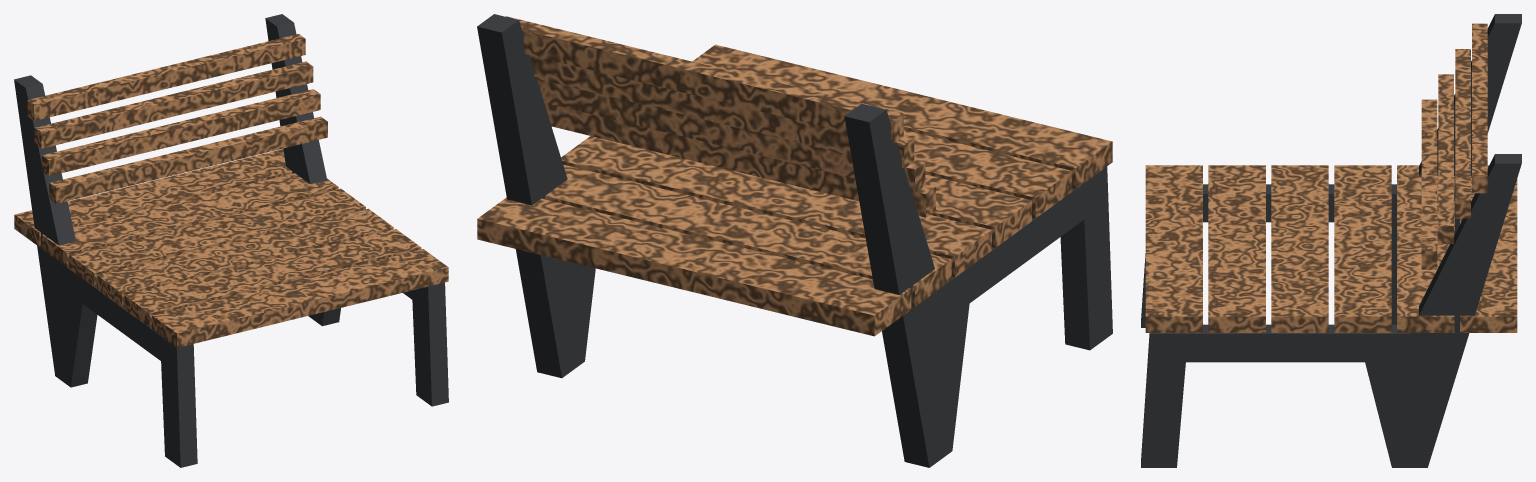
The picture shows the model from 3 angles, left to right: view 1: azimuth 30°, elevation 25°; view 2: azimuth 150°, elevation 25°; view 3: azimuth 270°, elevation 25°; orthographic projection. The views are drawn at different scales.
Visible parts, largest first — view 1: armrests=false;backHeight=0.75;backrest=true;depth=0.85;fram (×2); view 2: armrests=false;backHeight=0.75;backrest=true;depth=0.85;fram (×2); view 3: armrests=false;backHeight=0.75;backrest=true;depth=0.85;fram (×2).
Part boxes in pixels (x1,y1,x2,y2): armrests=false;backHeight=0.75;backrest=true;depth=0.85;fram (×2): [14, 14, 448, 467]; armrests=false;backHeight=0.75;backrest=true;depth=0.85;fram (×2): [477, 14, 1112, 467]; armrests=false;backHeight=0.75;backrest=true;depth=0.85;fram (×2): [1141, 14, 1521, 467].
Bounding box in the file's own units: 0.8 × 0.85 × 0.75.
Materials: 2 (1 with a texture image).
